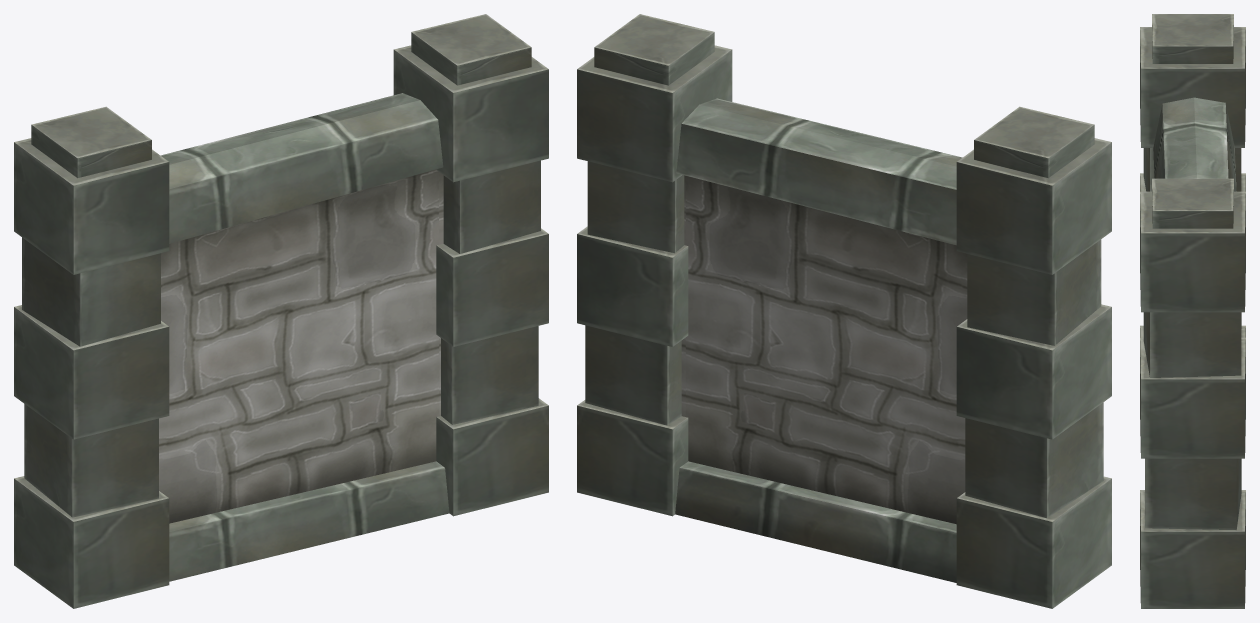
The model's file is wall_01_end.fbx.
3 views of the same model, side by side, from view 1: azimuth 30°, elevation 25°; view 2: azimuth 150°, elevation 25°; view 3: azimuth 270°, elevation 25° (orthographic). The views are drawn at different scales.
Parts seen in each view (by area): view 1: wall_01_end:Mesh; view 2: wall_01_end:Mesh; view 3: wall_01_end:Mesh.
Boxes of the visible parts, x1,y1,x2,y2 form: wall_01_end:Mesh: [14, 14, 548, 608]; wall_01_end:Mesh: [577, 14, 1111, 608]; wall_01_end:Mesh: [1140, 14, 1245, 608].
Size of the model in its own units: 3.15 by 2.81 by 0.6835.
